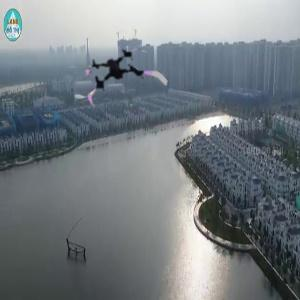drone: (78, 37, 160, 119)
